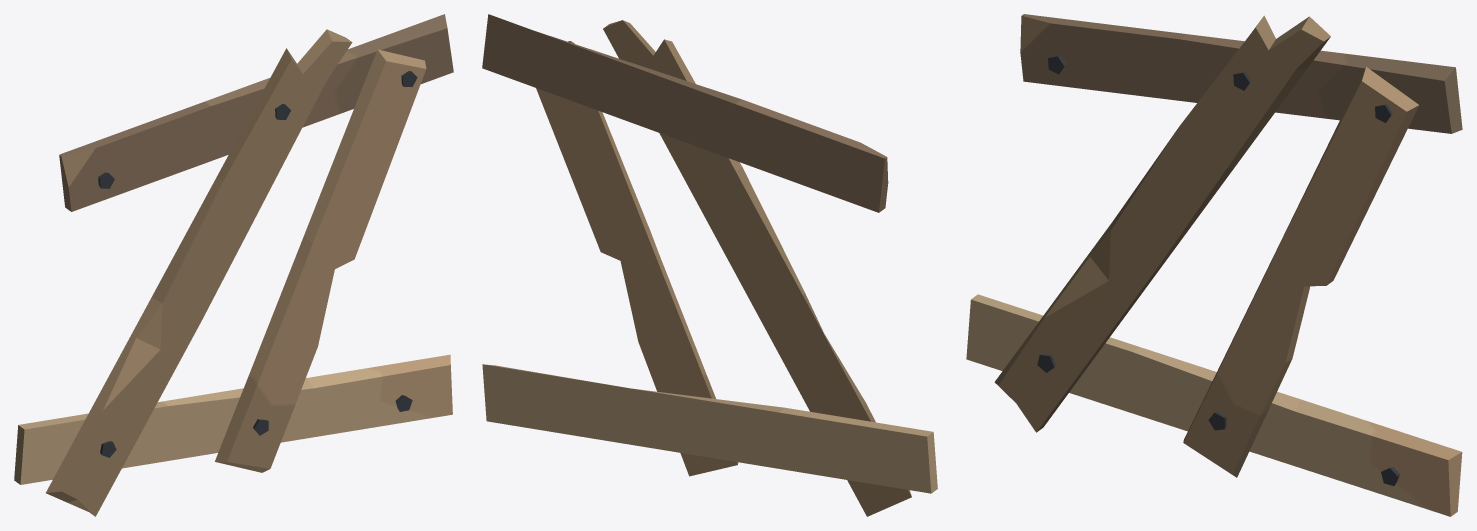
The model's file is SM_Window_Baricade_A.gltf.
The picture shows the model from 3 angles, left to right: view 1: azimuth 30°, elevation 25°; view 2: azimuth 150°, elevation 25°; view 3: azimuth 330°, elevation 25°; orthographic projection. The views are drawn at different scales.
Parts seen in each view (by area): view 1: SM_Window_Baricade_A; view 2: SM_Window_Baricade_A; view 3: SM_Window_Baricade_A.
Part boxes in pixels (x1=…): SM_Window_Baricade_A: x1=14, y1=14, x2=453, y2=516; SM_Window_Baricade_A: x1=482, y1=14, x2=937, y2=516; SM_Window_Baricade_A: x1=966, y1=14, x2=1462, y2=516.
Size of the model in its own units: 1.63 by 1.53 by 0.098.
1 material, 1 textured.
